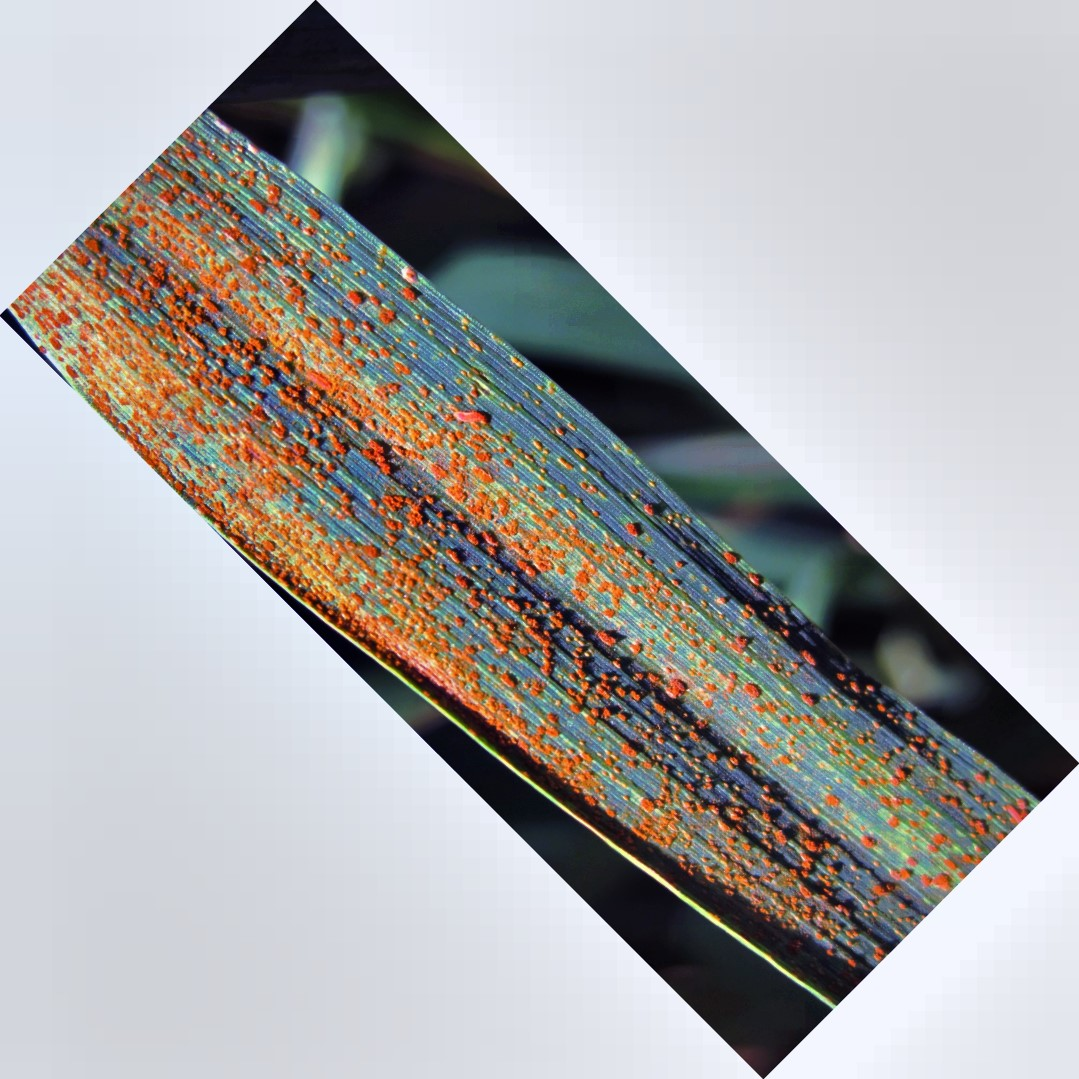Leaf Rust: (113, 206, 924, 932)
